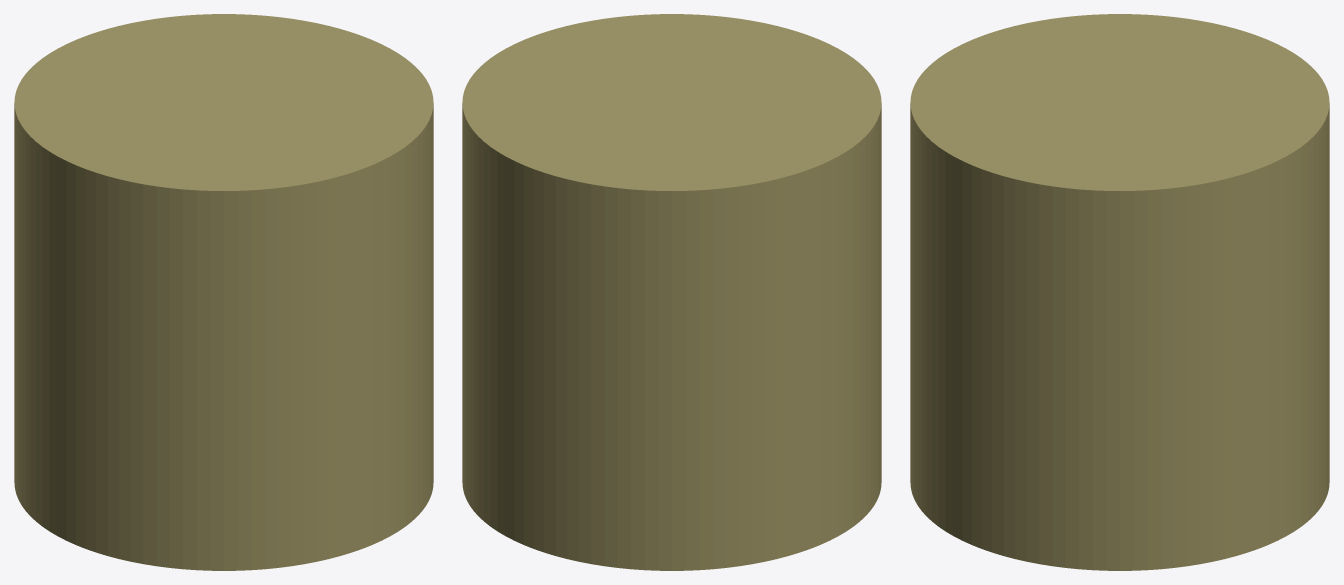
The model's file is terrain-base-a49b68.glb.
3 views of the same model, side by side, from view 1: azimuth 30°, elevation 25°; view 2: azimuth 150°, elevation 25°; view 3: azimuth 270°, elevation 25° (orthographic).
Visible parts, largest first — view 1: terrain-base-a49b68; view 2: terrain-base-a49b68; view 3: terrain-base-a49b68.
Part boxes in pixels (x1,y1,x2,y2): terrain-base-a49b68: [14, 14, 433, 570]; terrain-base-a49b68: [462, 14, 881, 570]; terrain-base-a49b68: [910, 14, 1329, 570].
Bounding box in the file's own units: 1 × 1 × 1.
